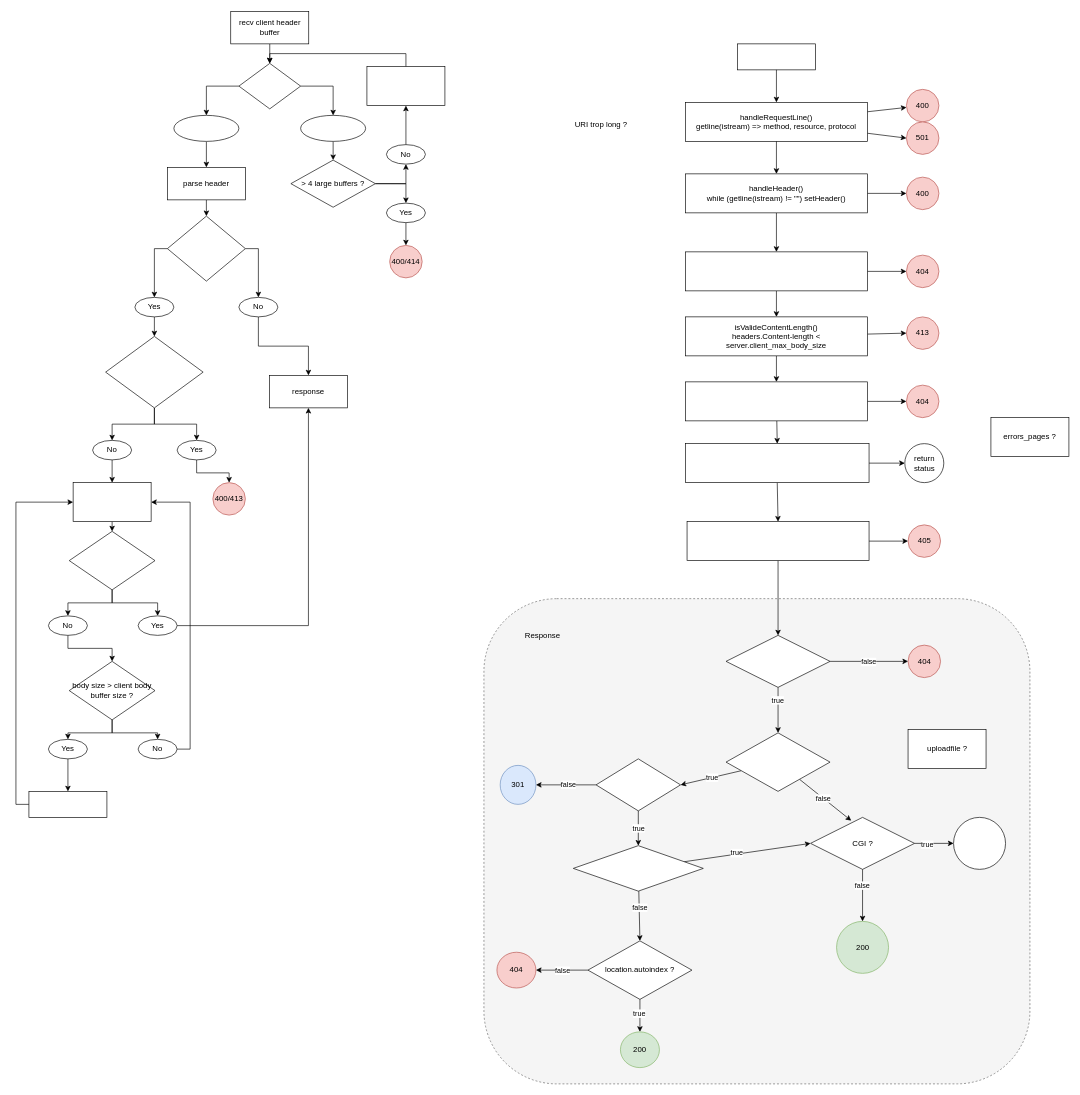
The diagram is 1080 pixels wide and 1095 high, and some of its shapes have lost their labels. The shapes that lost their labels are listed below. From the top down, each one's centre as x and y in pixels, then its label:
[776,56]: Request(istream)
[269,86]: find /r/n/r/n ?
[405,86]: recv client large header buffer
[206,128]: Found
[333,128]: Not found
[206,248]: body expected ?
[776,271]: getServer() header["Host"] == server_name
[154,372]: body size > client max body size ?
[776,401]: getLocation() request.resource.match(location.path)
[777,463]: location.return ?
[111,502]: recv client body buffer
[112,560]: finish read body ?
[777,541]: isValidMethod() location.method.include(request.method)
[777,661]: resourceAccess()
[777,761]: isDirectory()
[67,804]: spill to disk (tmp file)
[638,784]: trailing /
[979,843]: CGI
[638,868]: access(path / location.index[] )
